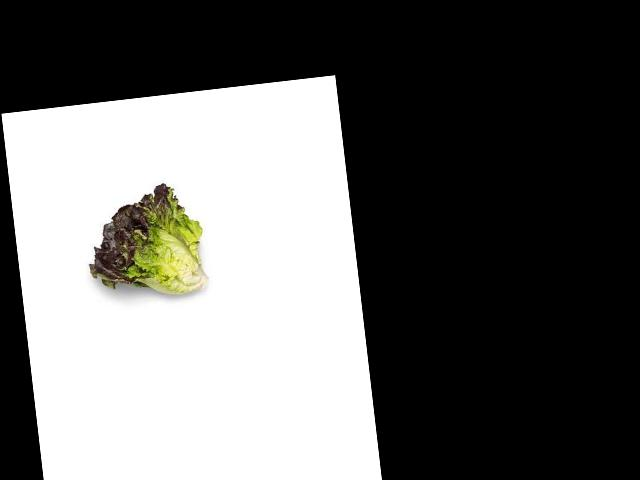lettuce: (80, 194, 220, 296)
